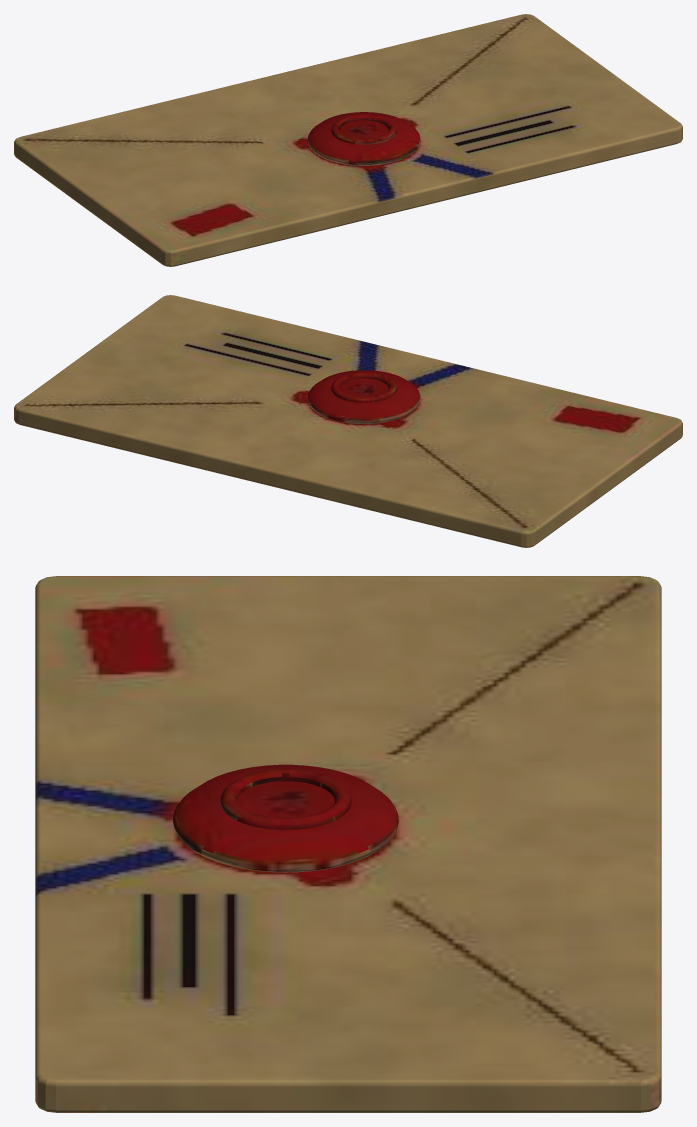
The model's file is sealed_filing.glb.
3 renders of one model, top to bottom at view 1: azimuth 30°, elevation 25°; view 2: azimuth 150°, elevation 25°; view 3: azimuth 270°, elevation 25°, orthographic. The views are drawn at different scales.
Visible parts, largest first — view 1: sealed_filing; view 2: sealed_filing; view 3: sealed_filing.
Part boxes in pixels (x1,y1,x2,y2): sealed_filing: [14, 14, 682, 266]; sealed_filing: [14, 295, 682, 547]; sealed_filing: [35, 576, 661, 1112].
Bounding box in the file's own units: 0.23 × 0.0141 × 0.12.
1 material, 1 textured.
